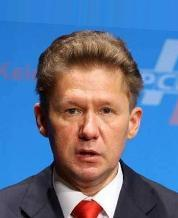face: (60, 100, 119, 163)
